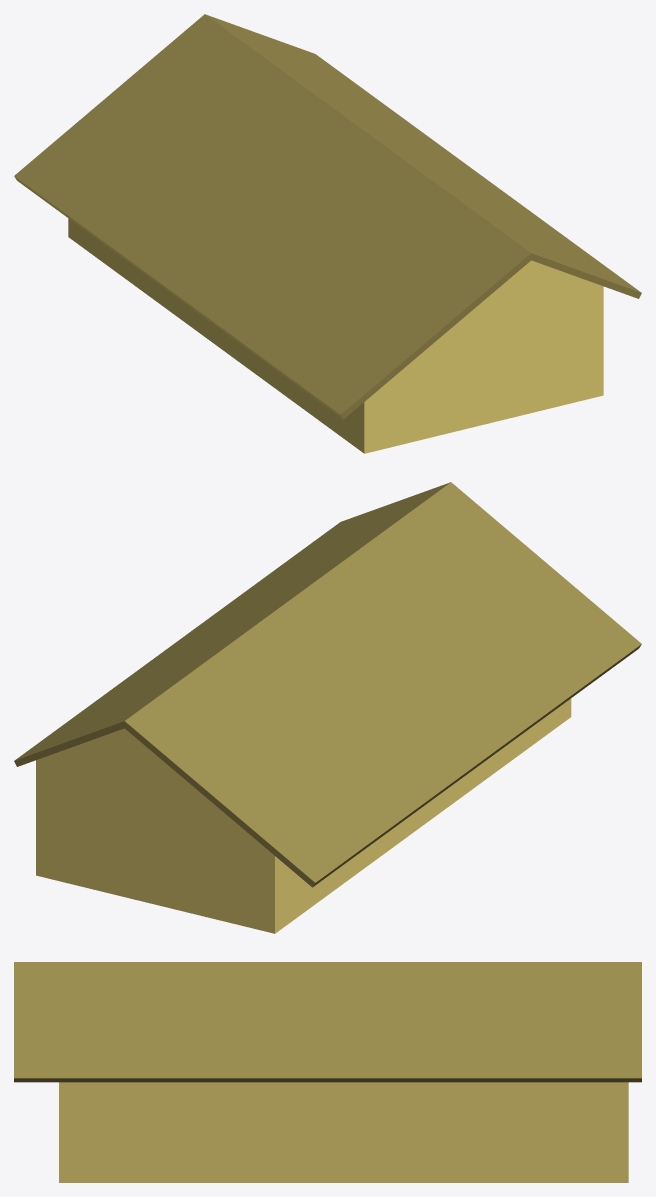
Rendered from result.glb.
The picture shows the model from 3 angles, top to bottom: view 1: azimuth 30°, elevation 25°; view 2: azimuth 150°, elevation 25°; view 3: azimuth 270°, elevation 25°; orthographic projection. The views are drawn at different scales.
Parts seen in each view (by area): view 1: e08f4b5b-8217-4143-a5ad-62995f15e36b__undefined (×2), a5cebd8b-8b0c-4764-a9fa-d2fd426a39cf__undefined; view 2: e08f4b5b-8217-4143-a5ad-62995f15e36b__undefined (×2), a5cebd8b-8b0c-4764-a9fa-d2fd426a39cf__undefined; view 3: e08f4b5b-8217-4143-a5ad-62995f15e36b__undefined, a5cebd8b-8b0c-4764-a9fa-d2fd426a39cf__undefined.
Part boxes in pixels (x1=…): e08f4b5b-8217-4143-a5ad-62995f15e36b__undefined (×2): x1=14, y1=14, x2=641, y2=419; a5cebd8b-8b0c-4764-a9fa-d2fd426a39cf__undefined: x1=68, y1=218, x2=603, y2=453; e08f4b5b-8217-4143-a5ad-62995f15e36b__undefined (×2): x1=14, y1=482, x2=641, y2=887; a5cebd8b-8b0c-4764-a9fa-d2fd426a39cf__undefined: x1=36, y1=698, x2=571, y2=933; e08f4b5b-8217-4143-a5ad-62995f15e36b__undefined: x1=14, y1=962, x2=641, y2=1082; a5cebd8b-8b0c-4764-a9fa-d2fd426a39cf__undefined: x1=59, y1=1082, x2=628, y2=1182.
Bounding box in the file's own units: 1258 × 729 × 2360.
